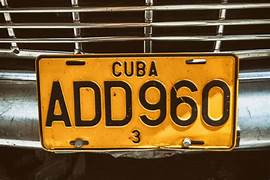number_plate: (39, 56, 235, 145)
